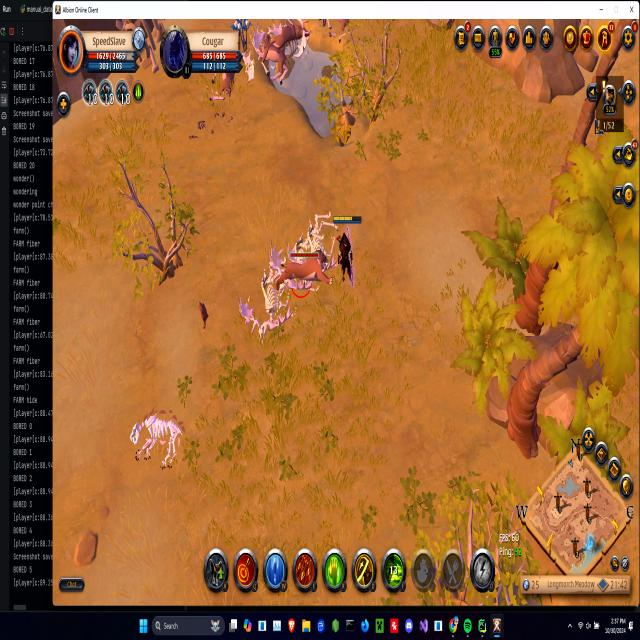hide: (228, 19, 254, 55)
mob: (253, 24, 290, 85), (270, 18, 310, 56)
ore: (276, 245, 332, 302)
red: (331, 212, 362, 288)
